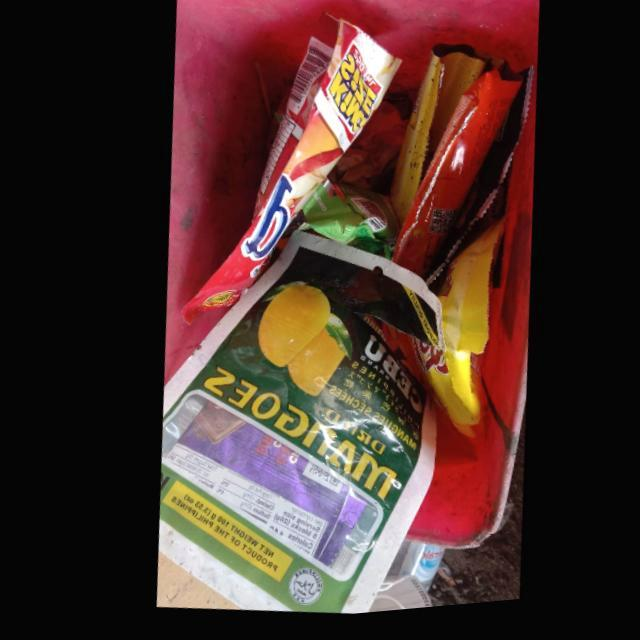food_wrapper: (148, 236, 436, 619), (178, 28, 400, 329), (387, 77, 531, 304), (387, 55, 492, 231), (417, 226, 500, 426), (296, 190, 388, 266)
